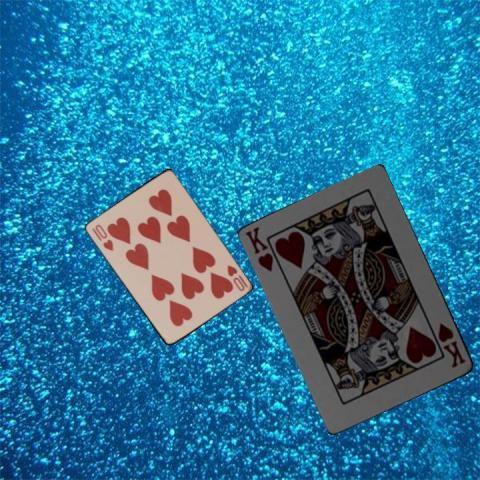10h: (88, 221, 114, 253), (224, 262, 249, 293)
Kh: (435, 320, 468, 370), (243, 224, 275, 274)
